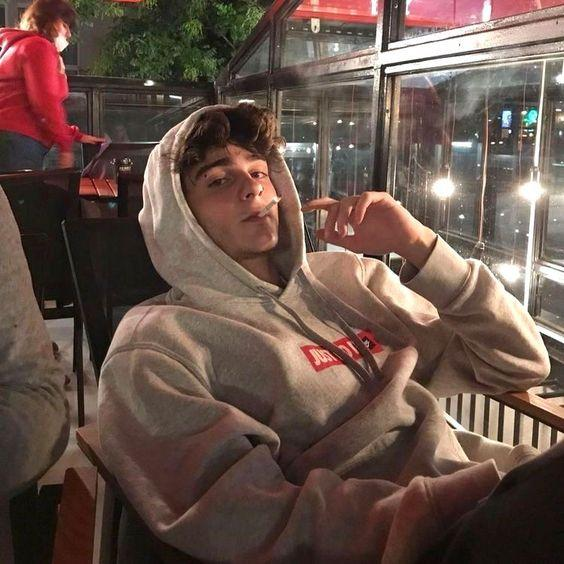cigarette: (257, 196, 281, 218)
